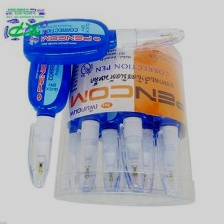correction_fluid: (21, 30, 74, 191), (20, 16, 188, 66), (111, 47, 153, 193), (72, 50, 112, 193), (94, 50, 133, 196), (150, 48, 185, 199)
plastic_box: (50, 34, 201, 208)
